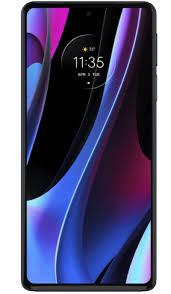Smartphone: (17, 0, 154, 294)
